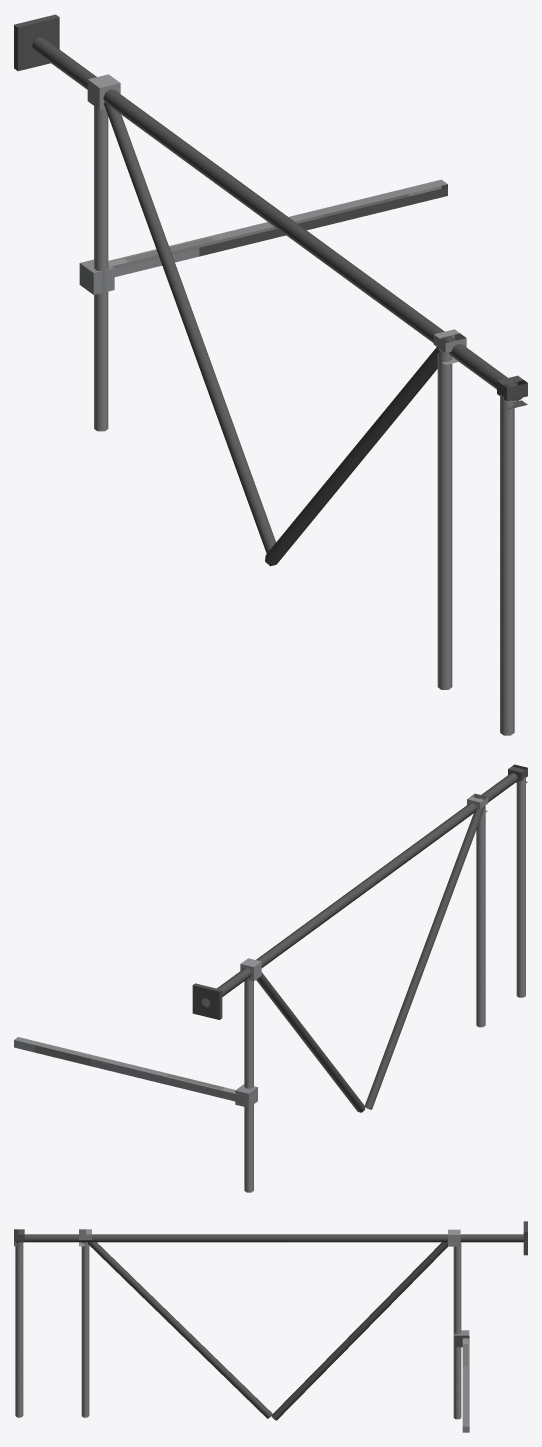
3 renders of one model, top to bottom at view 1: azimuth 30°, elevation 25°; view 2: azimuth 150°, elevation 25°; view 3: azimuth 270°, elevation 25°, orthographic. The views are drawn at different scales.
Size of the model in its own units: 1.07 by 1 by 2.41.
